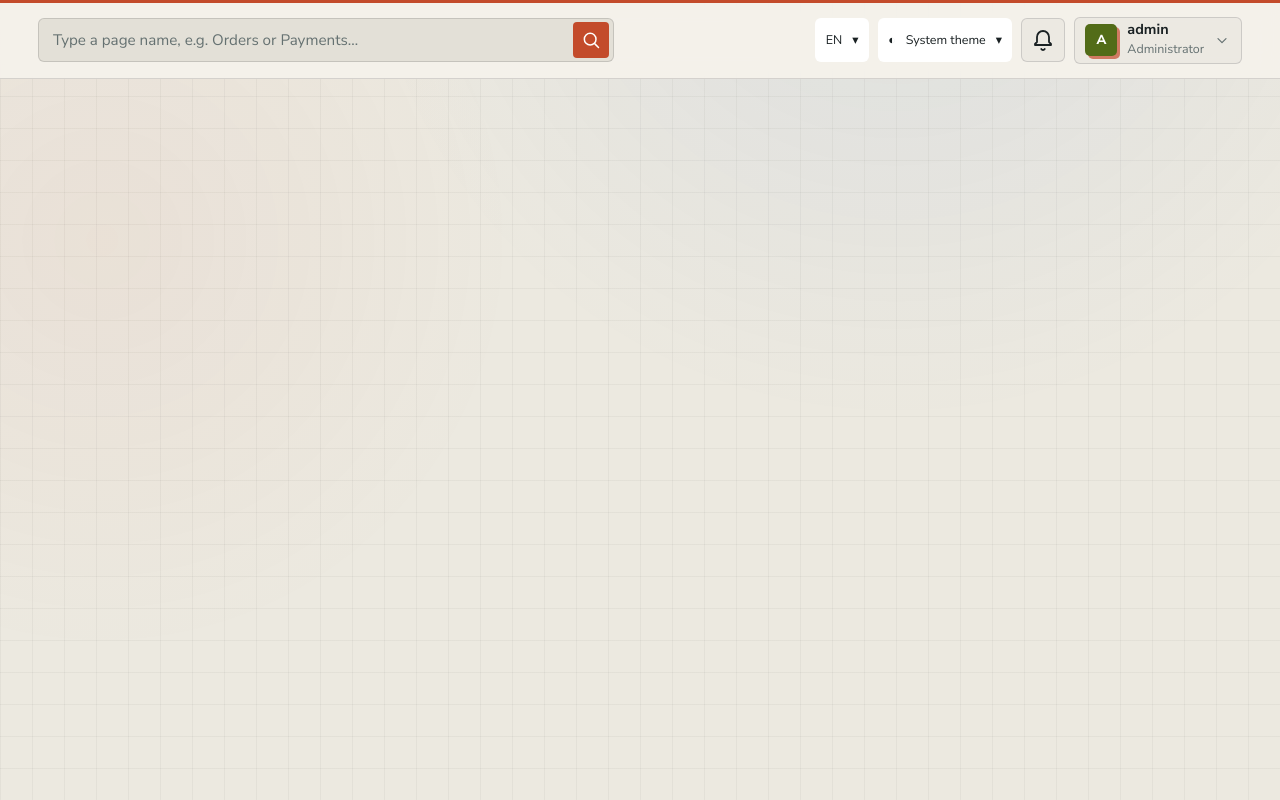
Test case: AdminHeader activity feed request states › shows the fulfilled empty copy
What coordinates should you click on to do the following:
click the button named "Notifications"
I would click on:
 (1043, 40)
Its box is [1021,18,1065,62].
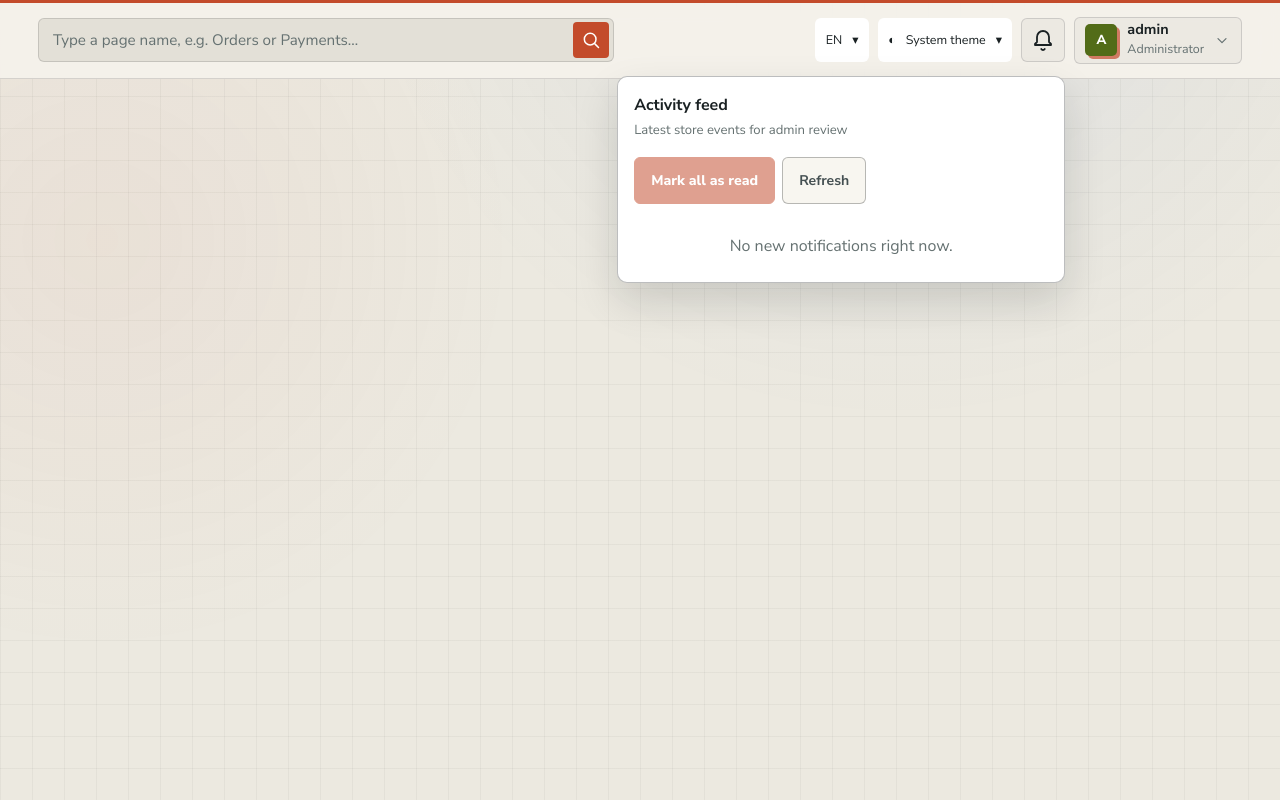
Result: the text "No new notifications right now." is shown at [730,235,953,257]
